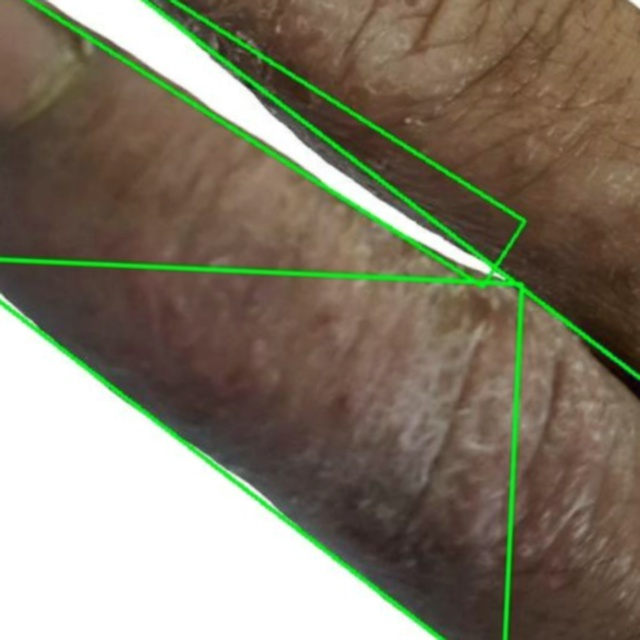Contact Dermatitis: (0, 0, 639, 639), (0, 259, 522, 639), (28, 0, 523, 287)
